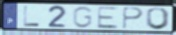2: (47, 4, 69, 30)
E: (96, 6, 120, 30)
G: (71, 5, 95, 29)
L: (23, 5, 42, 27)
O: (145, 7, 172, 31)
P: (122, 6, 145, 30)
